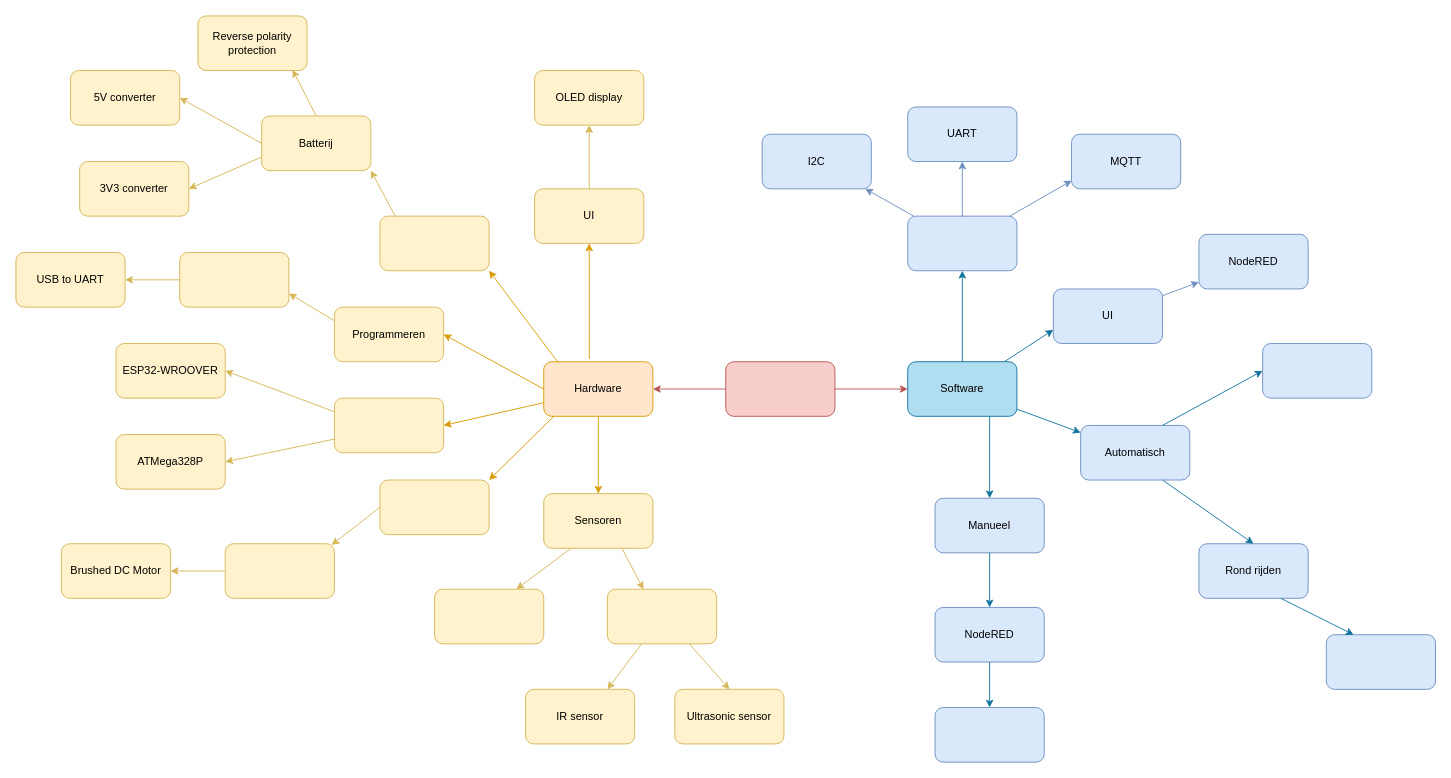
Some shapes in this 1451 by 778 pixel diagram are drawn without their labels. The shapes that lost their labels are listed below. From the top down, each one's box as (x1, y1, x2, y2) in pixels, then its label:
(379, 215, 489, 271): Voeding
(907, 215, 1017, 271): Communicatie
(179, 252, 289, 307): USB-C
(725, 361, 835, 416): Smart Car
(1262, 343, 1372, 398): Lijn volgen
(334, 397, 444, 453): MCU
(379, 479, 489, 535): Actuatoren
(224, 543, 334, 598): Motoren
(434, 588, 544, 644): Linetracker
(607, 588, 717, 644): Afstand Sensor
(1325, 634, 1436, 689): Obstakels vermijden
(934, 707, 1044, 762): Pijl toetsen
